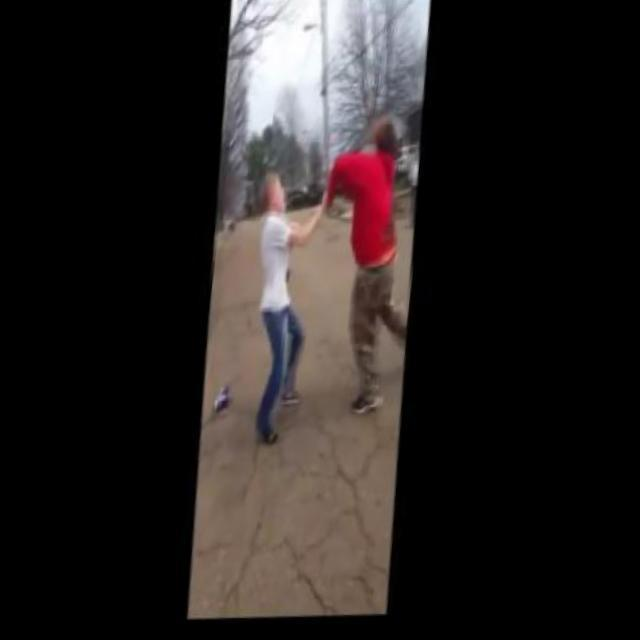fight: (233, 110, 425, 458)
